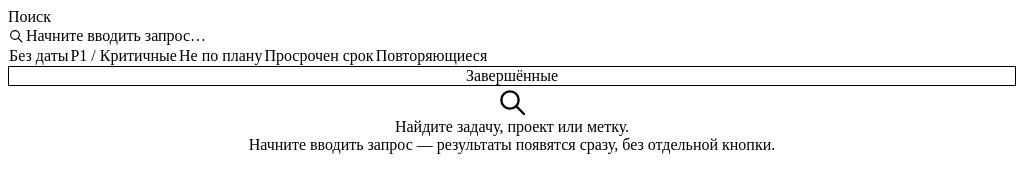
Test case: Search — Системные фильтры, M34 (01§16, E12.3) › «P1 / Критичные» — активная задача с priority=1
Expected: the button "Без даты" is shown, [8,46,69,66]
Click the button "P1 / Критичные".
click(124, 56)  # box [69,46,178,66]
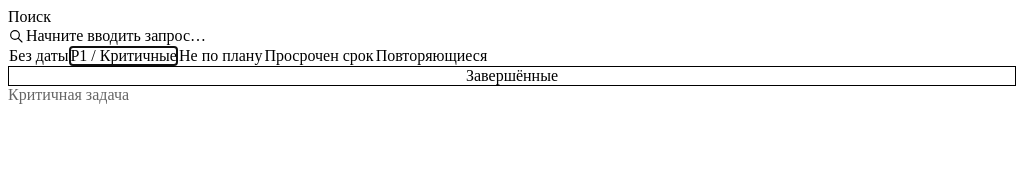
Result: the text "Критичная задача" is shown at [8,86,129,104]
